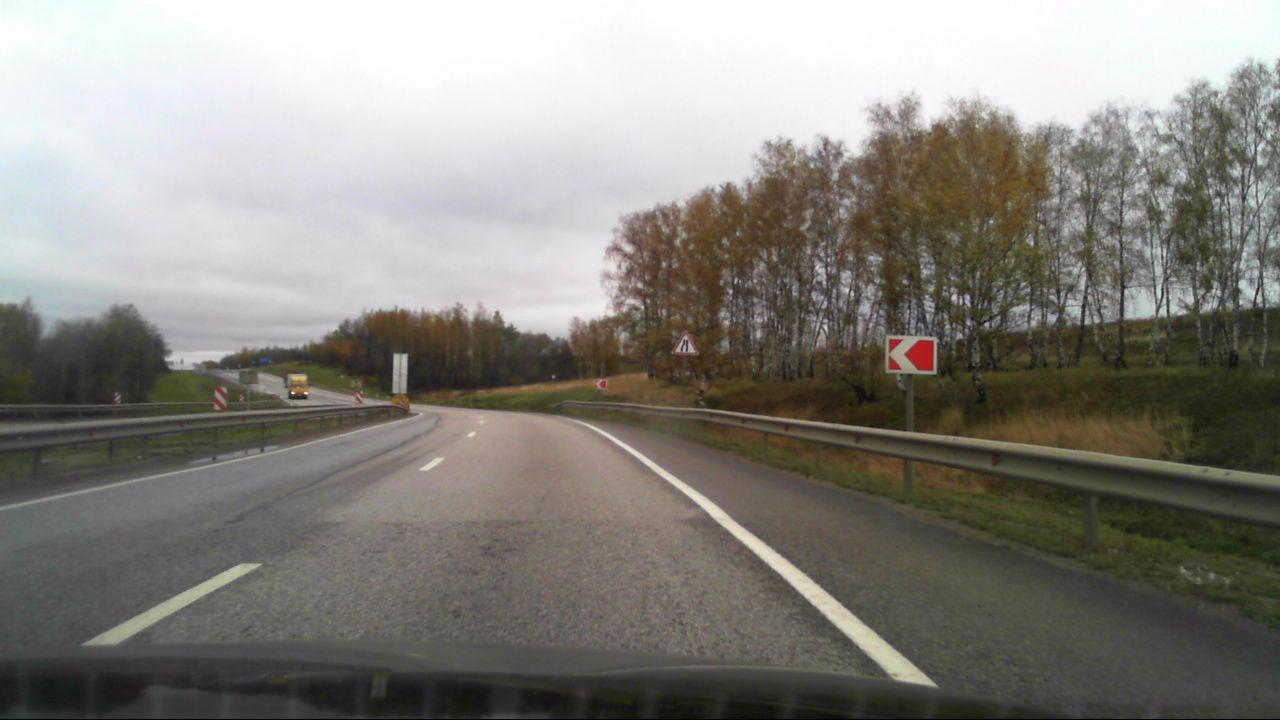1_20_3: (670, 330, 698, 356)
1_34_2: (885, 333, 938, 375), (595, 377, 607, 389)
8_22_1: (214, 387, 228, 411), (357, 390, 366, 405), (398, 398, 405, 407)
8_22_2: (114, 391, 122, 404), (238, 391, 245, 402)
